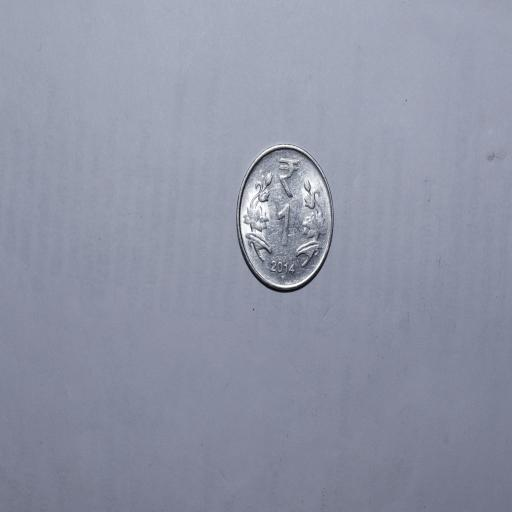rupee1: (232, 141, 334, 295)
